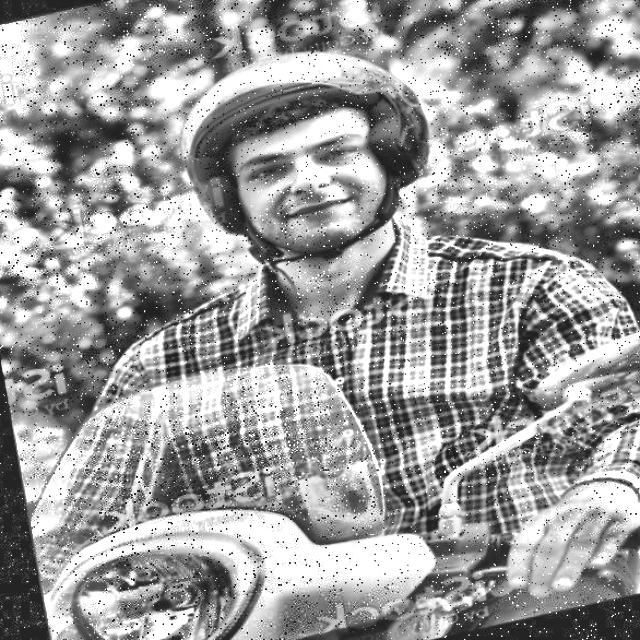Helmet: (158, 24, 456, 301)
